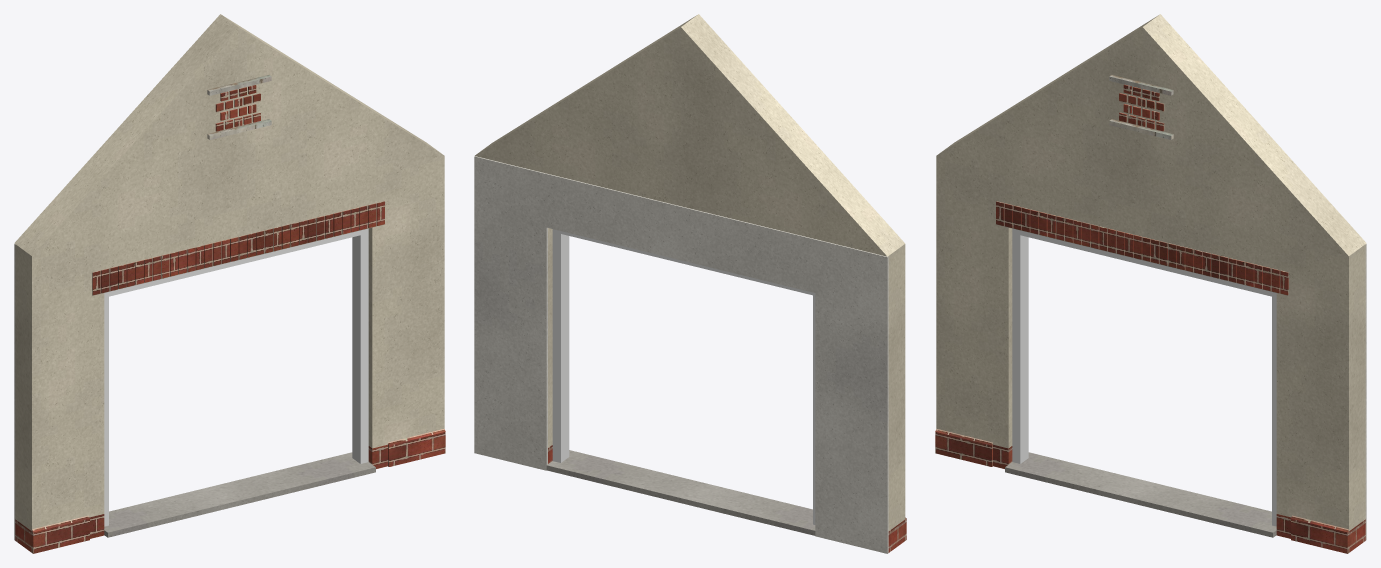
Rendered from garage_front.glb.
3 renders of one model, left to right at view 1: azimuth 30°, elevation 25°; view 2: azimuth 150°, elevation 25°; view 3: azimuth 330°, elevation 25°, orthographic.
Parts seen in each view (by area): view 1: garage_front_render, garage_front_brick, garage_front_concrete, garage_front_frame, garage_front_cill, garage_front_plaster; view 2: garage_front_plaster, garage_front_render, garage_front_concrete, garage_front_frame; view 3: garage_front_render, garage_front_brick, garage_front_concrete, garage_front_frame, garage_front_cill, garage_front_plaster.
Part boxes in pixels (<box>): garage_front_render: <box>14,14,444,530</box>; garage_front_brick: <box>15,85,445,553</box>; garage_front_concrete: <box>104,452,375,537</box>; garage_front_frame: <box>104,228,368,526</box>; garage_front_cill: <box>92,75,385,295</box>; garage_front_plaster: <box>14,243,15,540</box>; garage_front_plaster: <box>474,156,888,553</box>; garage_front_render: <box>475,14,905,530</box>; garage_front_concrete: <box>546,450,815,535</box>; garage_front_frame: <box>552,229,815,524</box>; garage_front_render: <box>936,14,1366,530</box>; garage_front_brick: <box>935,84,1365,553</box>; garage_front_concrete: <box>1005,452,1276,537</box>; garage_front_frame: <box>1012,228,1276,526</box>; garage_front_cill: <box>995,75,1288,295</box>; garage_front_plaster: <box>1365,243,1366,540</box>.
Bounding box in the file's own units: 4 × 4.41 × 0.36.
Materials: 6 (5 with a texture image).
